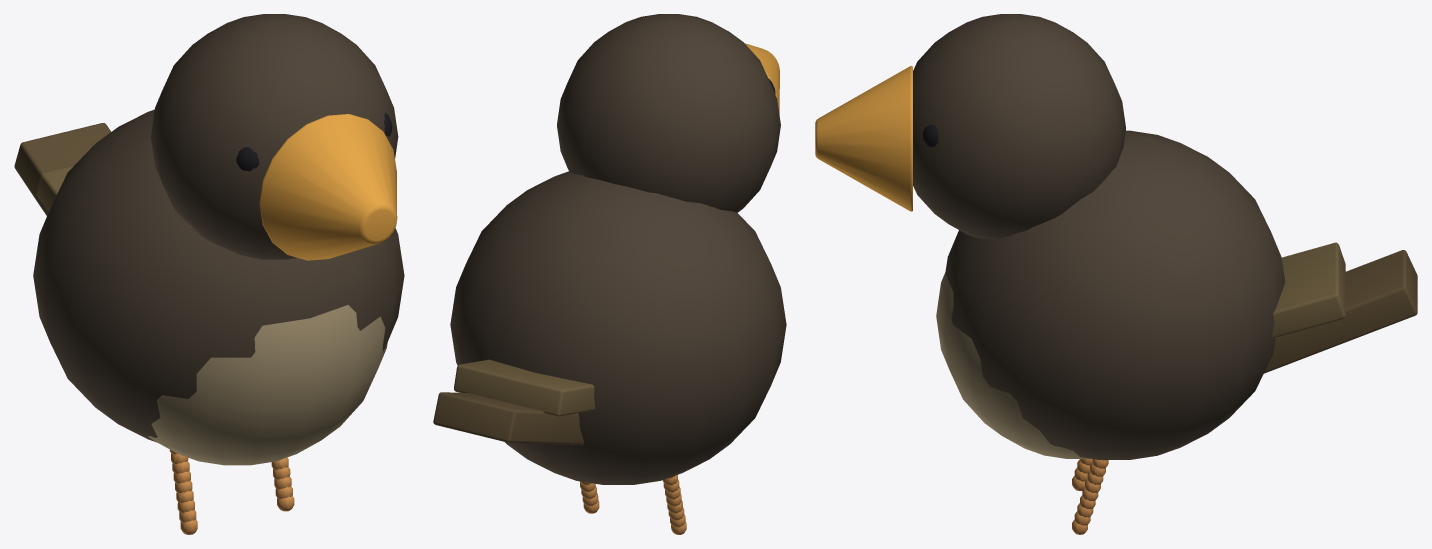
The model's file is finch_thick.glb.
3 renders of one model, left to right at view 1: azimuth 30°, elevation 25°; view 2: azimuth 150°, elevation 25°; view 3: azimuth 270°, elevation 25°, orthographic. The views are drawn at different scales.
Visible parts, largest first — view 1: finch_thick; view 2: finch_thick; view 3: finch_thick.
Boxes of the visible parts, bbox=[...] form: finch_thick: bbox=[14, 14, 404, 534]; finch_thick: bbox=[433, 14, 786, 534]; finch_thick: bbox=[815, 14, 1417, 534].
Bounding box in the file's own units: 0.5909 × 0.936 × 1.05.
